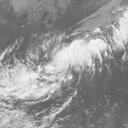cyclone: (28, 38, 101, 100)
